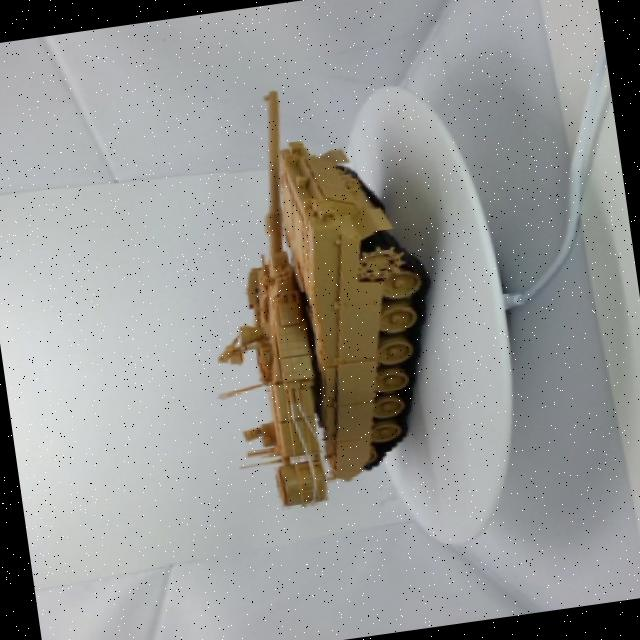korea tank: (153, 56, 464, 524)
